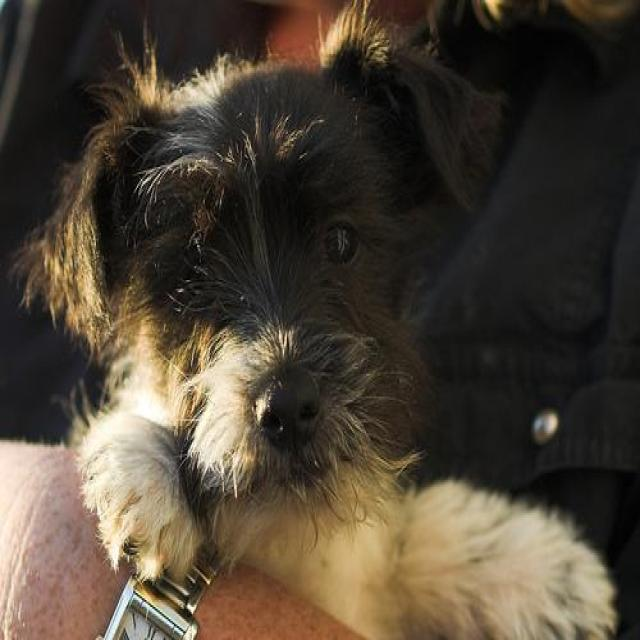dogs: (42, 40, 461, 613)
